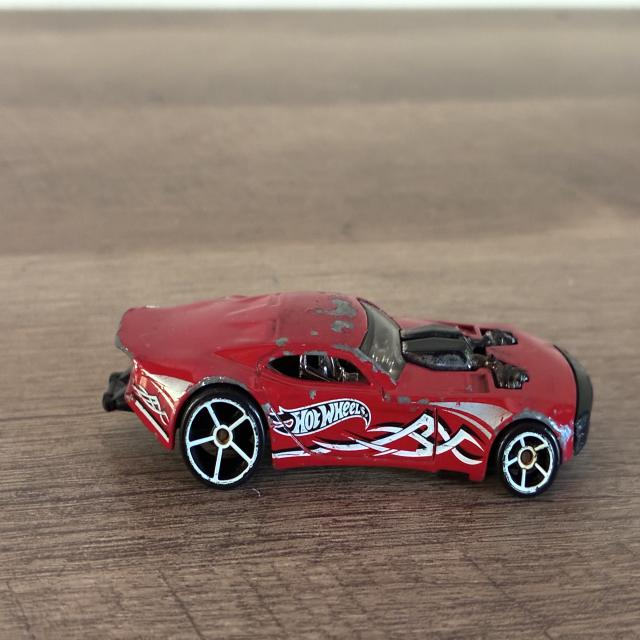cars: (103, 292, 592, 497), (402, 320, 571, 395), (381, 381, 508, 475), (139, 357, 250, 442), (252, 384, 323, 468), (273, 332, 341, 382), (331, 339, 389, 384), (312, 294, 353, 340), (323, 466, 420, 485), (329, 433, 384, 464), (493, 353, 532, 394), (546, 412, 573, 462), (160, 281, 209, 304), (109, 371, 135, 408), (436, 283, 460, 316), (509, 406, 544, 426), (438, 468, 482, 479), (249, 277, 279, 292), (369, 418, 412, 428), (144, 383, 162, 406)
